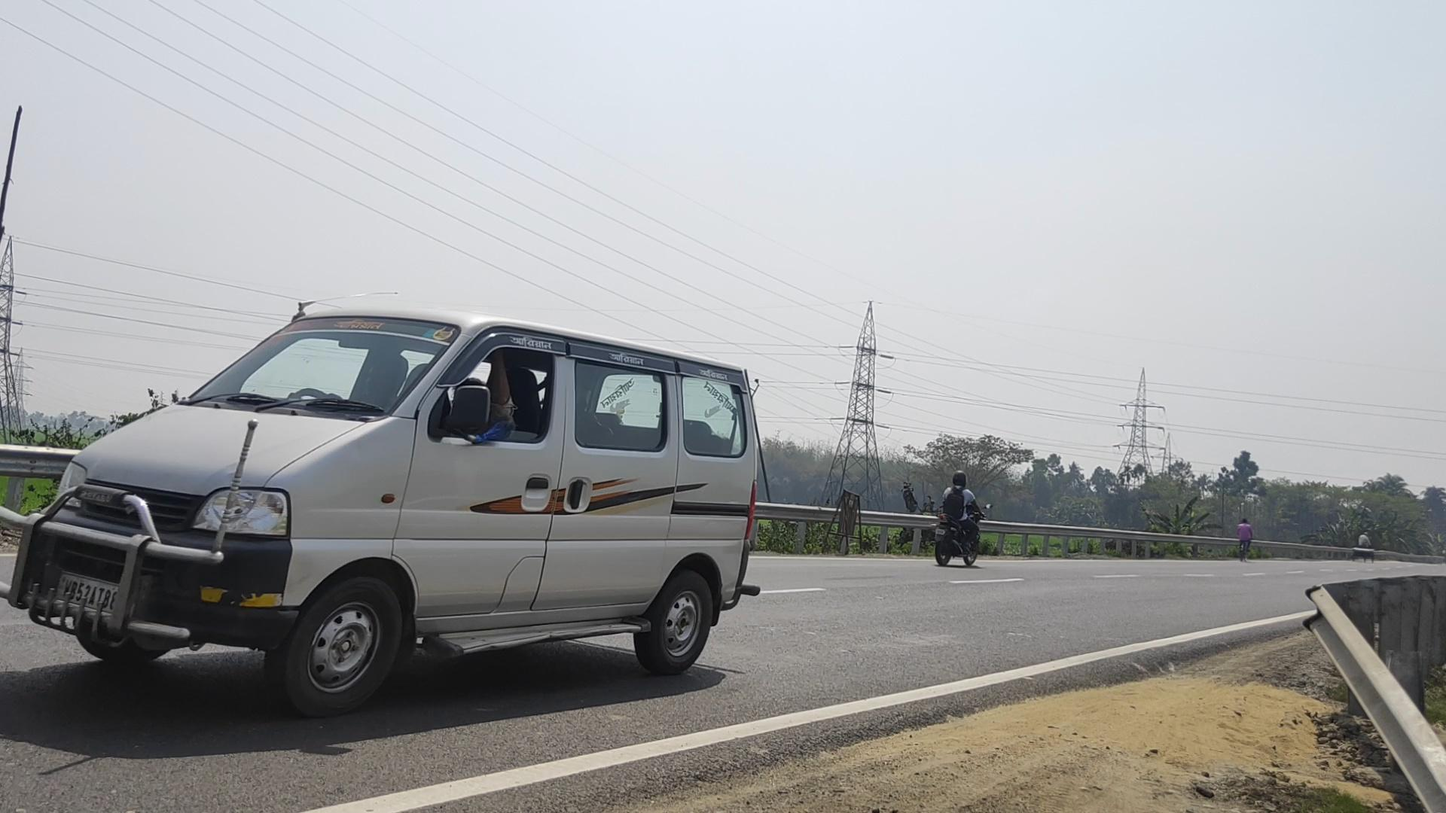bike: (929, 470, 993, 566), (1236, 518, 1254, 562)
van: (1, 294, 759, 719)
